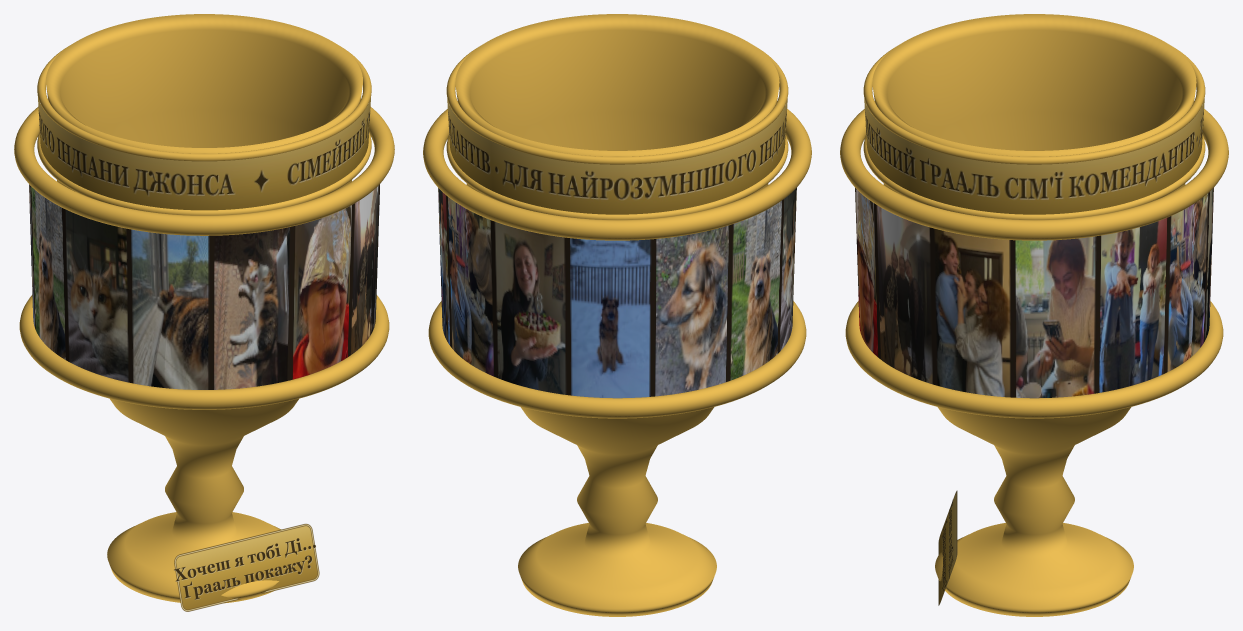
Rendered from grail.glb.
3 views of the same model, side by side, from view 1: azimuth 30°, elevation 25°; view 2: azimuth 150°, elevation 25°; view 3: azimuth 270°, elevation 25° (orthographic). The views are drawn at different scales.
Parts seen in each view (by area): view 1: body, photoband, rim (×4), inscription, plate; view 2: body, photoband, rim (×4), inscription; view 3: body, photoband, rim (×4), inscription, plate.
Part boxes in pixels (x1,y1,x2,y2): body: [46, 14, 362, 603]; photoband: [29, 184, 379, 389]; rim (×4): [14, 45, 394, 409]; inscription: [37, 95, 371, 210]; plate: [174, 523, 319, 611]; body: [455, 14, 779, 616]; photoband: [438, 188, 796, 398]; rim (×4): [423, 46, 811, 418]; inscription: [447, 96, 787, 214]; body: [872, 14, 1196, 616]; photoband: [855, 188, 1213, 398]; rim (×4): [840, 46, 1228, 418]; inscription: [864, 96, 1204, 214]; plate: [938, 490, 957, 605].
Bounding box in the file's own units: 1.06 × 1.48 × 1.06.
Materials: 4 (3 with a texture image).
